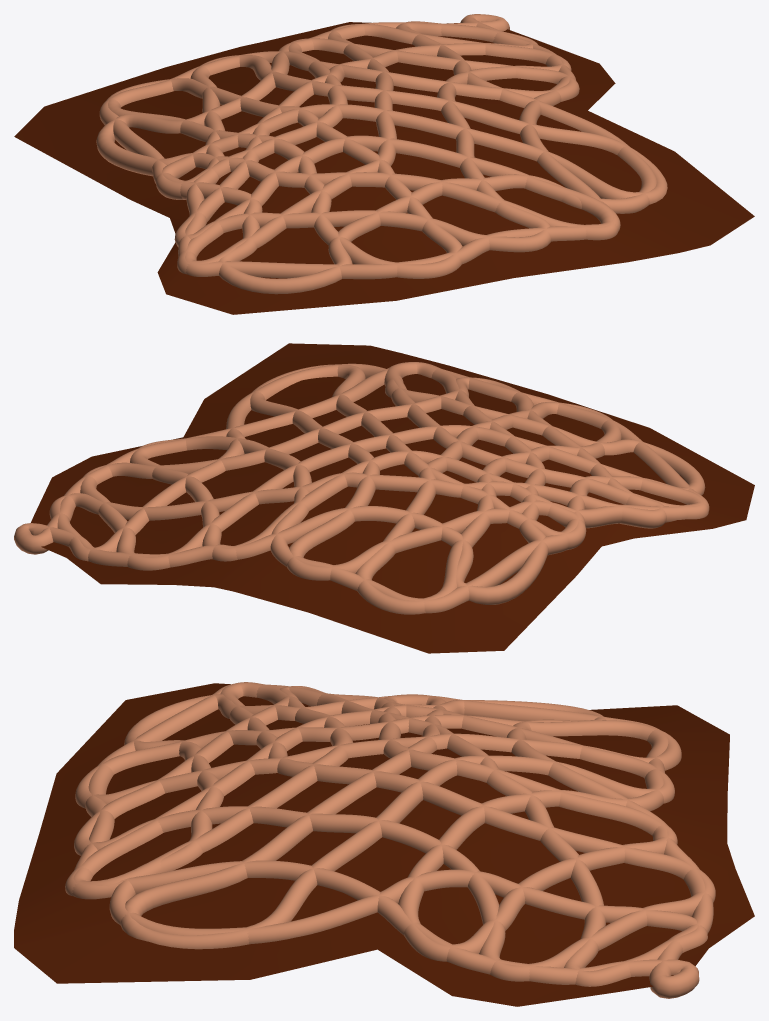
The model's file is fungle mass 3.fbx.
3 renders of one model, top to bottom at view 1: azimuth 30°, elevation 25°; view 2: azimuth 150°, elevation 25°; view 3: azimuth 270°, elevation 25°, orthographic. The views are drawn at different scales.
Parts seen in each view (by area): view 1: Plane.002; view 2: Plane.002; view 3: Plane.002.
Part boxes in pixels (left/top/right/bottom): Plane.002: left=14, top=14, right=754, bottom=314; Plane.002: left=14, top=343, right=754, bottom=653; Plane.002: left=14, top=682, right=754, bottom=1006.
Bounding box in the file's own units: 291 × 39 × 282.
